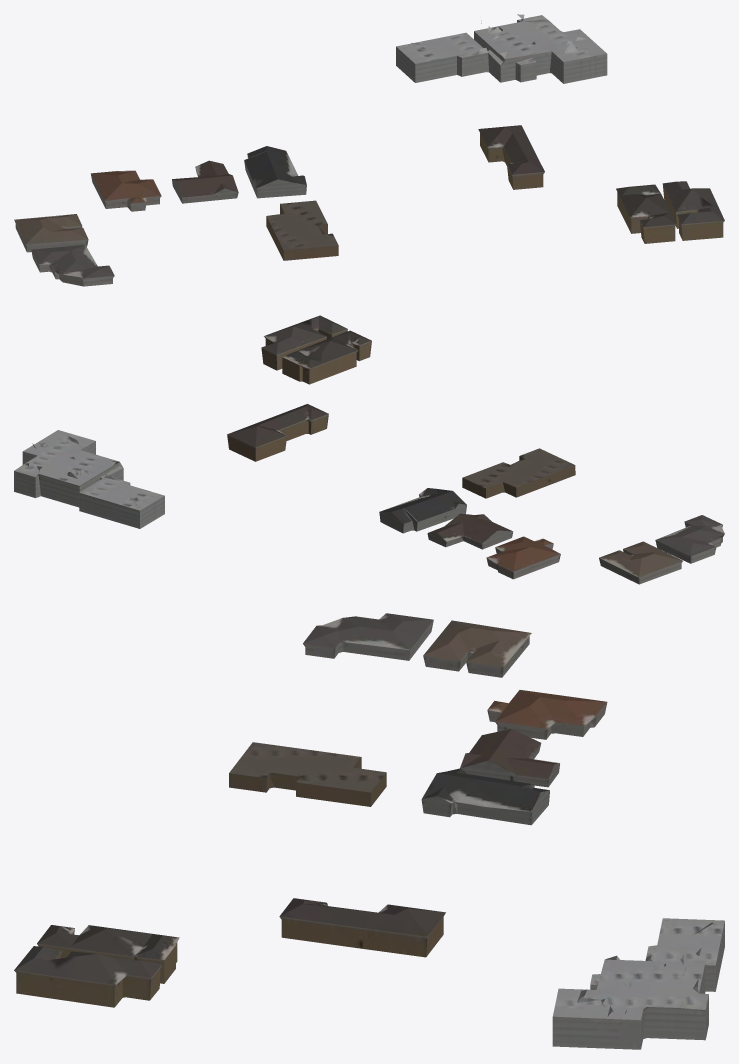
File: t_-4_1.coat.glb
3 views of the same model, one above another, from view 1: azimuth 30°, elevation 25°; view 2: azimuth 150°, elevation 25°; view 3: azimuth 270°, elevation 25° (orthographic). The views are drawn at different scales.
Parts seen in each view (by area): view 1: far; view 2: far; view 3: far.
Part boxes in pixels (x1,y1,x2,y2): far: (14, 14, 724, 286); far: (14, 315, 724, 584); far: (14, 613, 724, 1049).
Size of the model in its own units: 231 by 12.84 by 163.
Materials: 1 (1 with a texture image).
